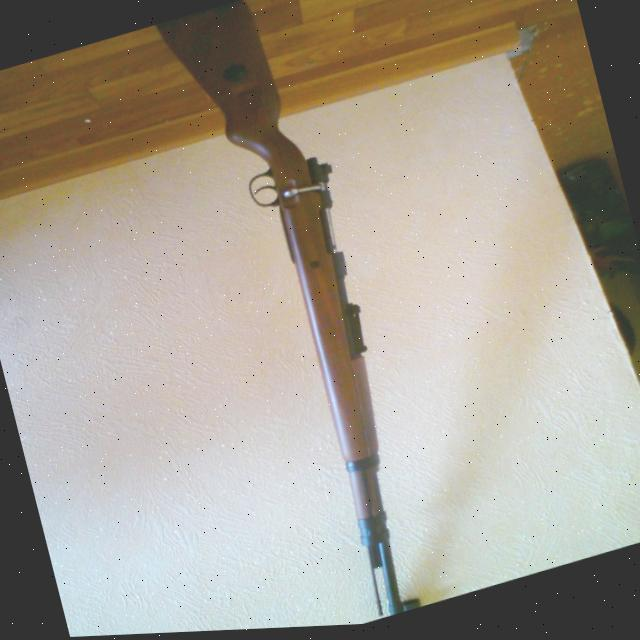firearm: (153, 0, 443, 635)
